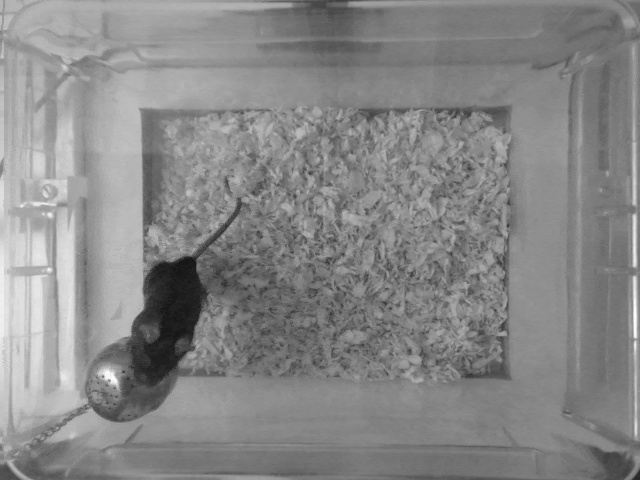mice: (130, 193, 242, 391)
